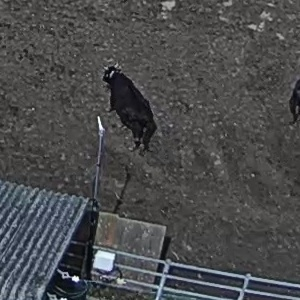cow: (100, 58, 168, 159)
